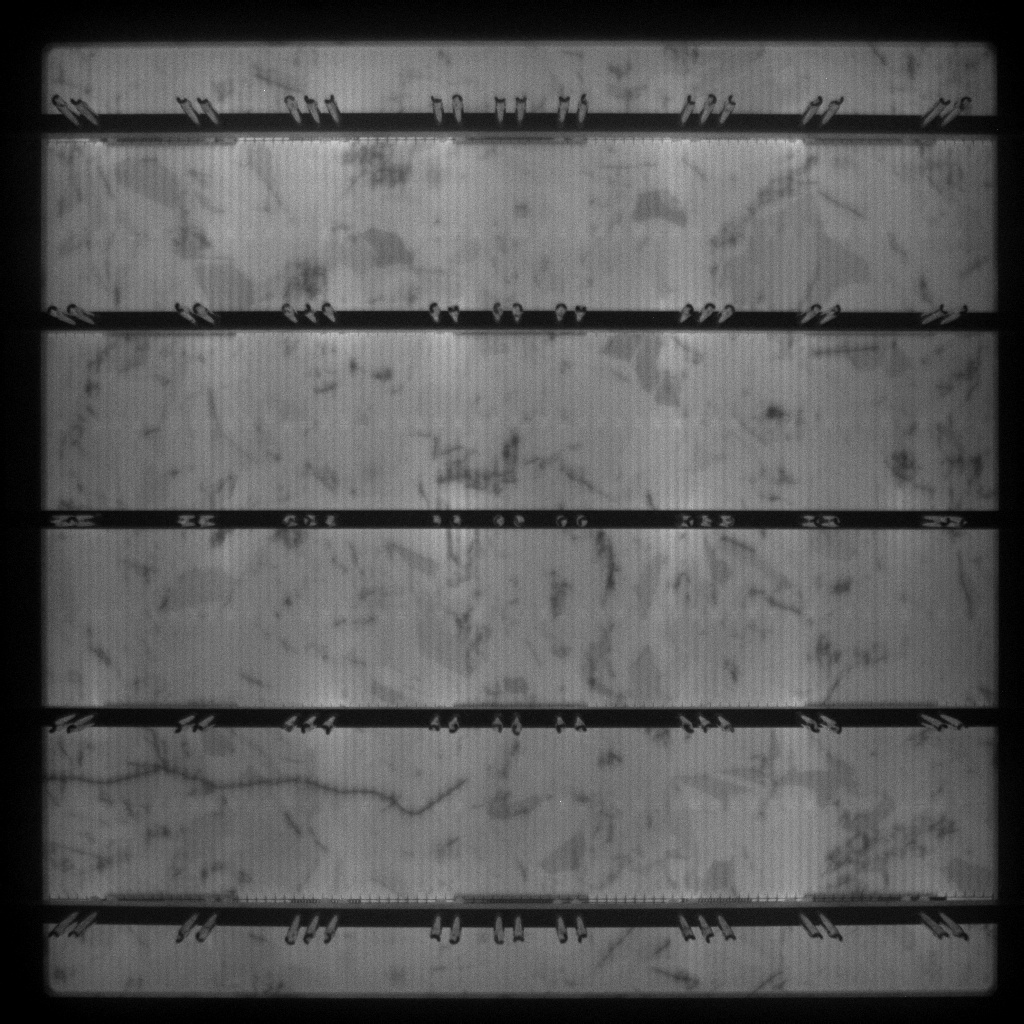crack: (47, 760, 469, 818)
